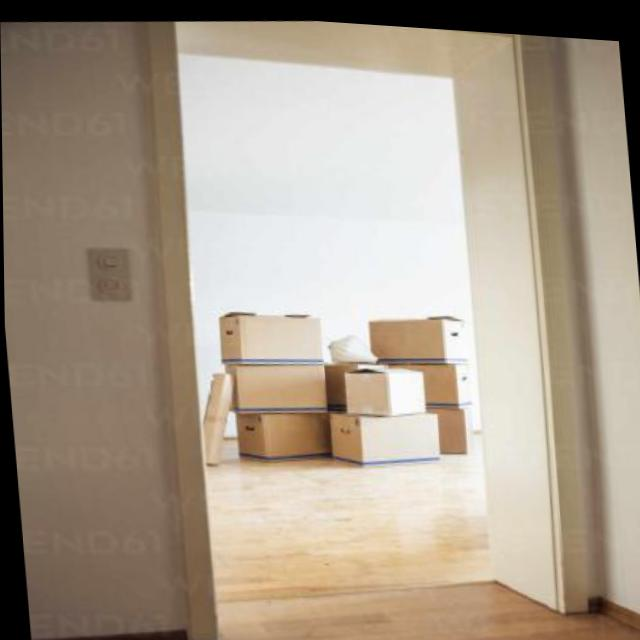box: (194, 351, 353, 418), (229, 403, 343, 496), (355, 288, 481, 363), (324, 342, 438, 414), (212, 297, 328, 366), (335, 404, 451, 473), (403, 351, 489, 410), (416, 401, 488, 460)
